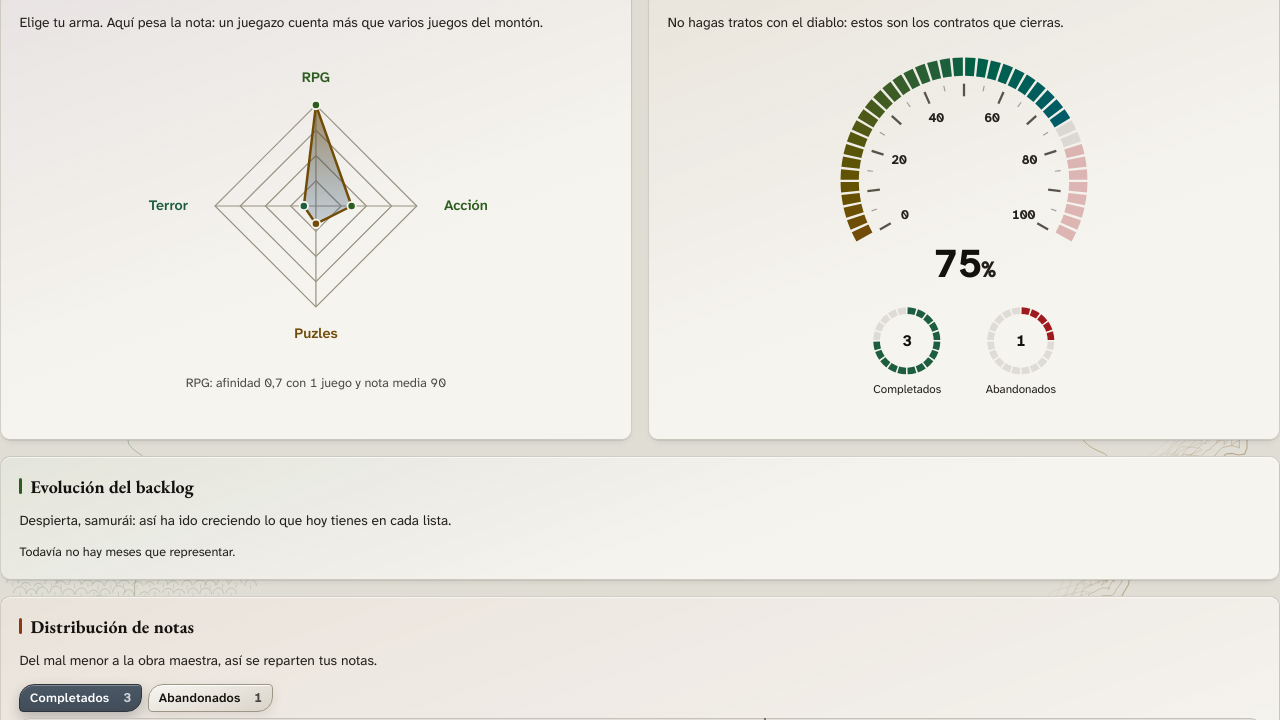
Test: StatsHub · el resto de figuras también se pueden señalar › los contadores del cuadro de mandos dicen su porcentaje al señalarlos
(page scrolled)
Click the button "3 Completados" at (907, 360), box [863,299,951,421]
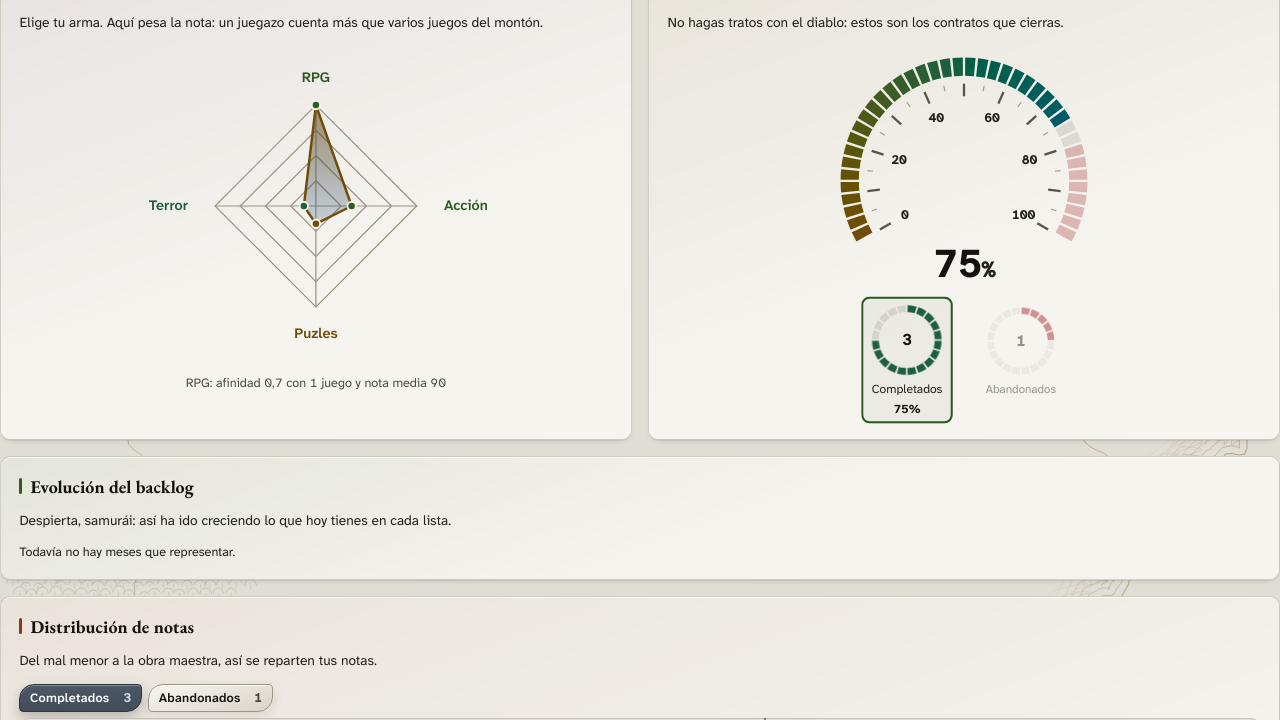
Expected: the list item with class "is-dim" is shown, [977,299,1065,421]
Now the button "3 Completados 75%" is shown, box [862,297,953,424]
